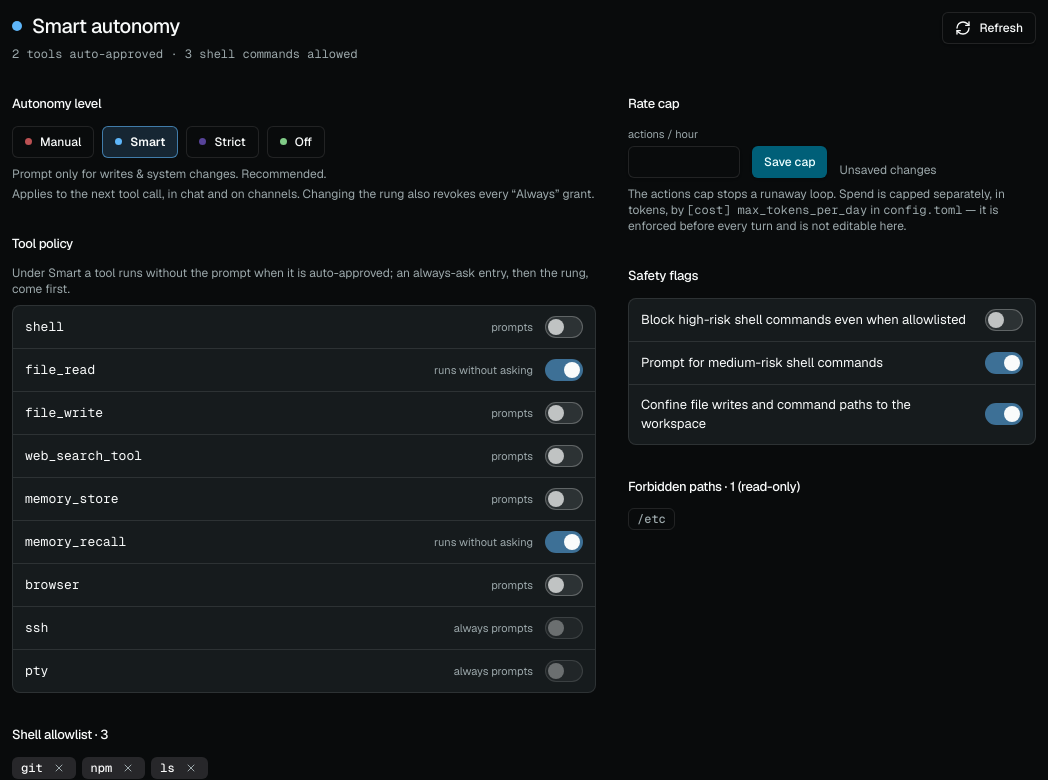
ToolsPanel rung and rows › writes the wildcard for Manual, broadcasts, and disables every switch under it
This screenshot has width=1048, height=780.
Check: the text "Prompt only for writes & system changes. Recommended." is shown, box [12,166,326,182]
Step 1. Click the button "Manual" → [53, 142], box [12,126,94,158]
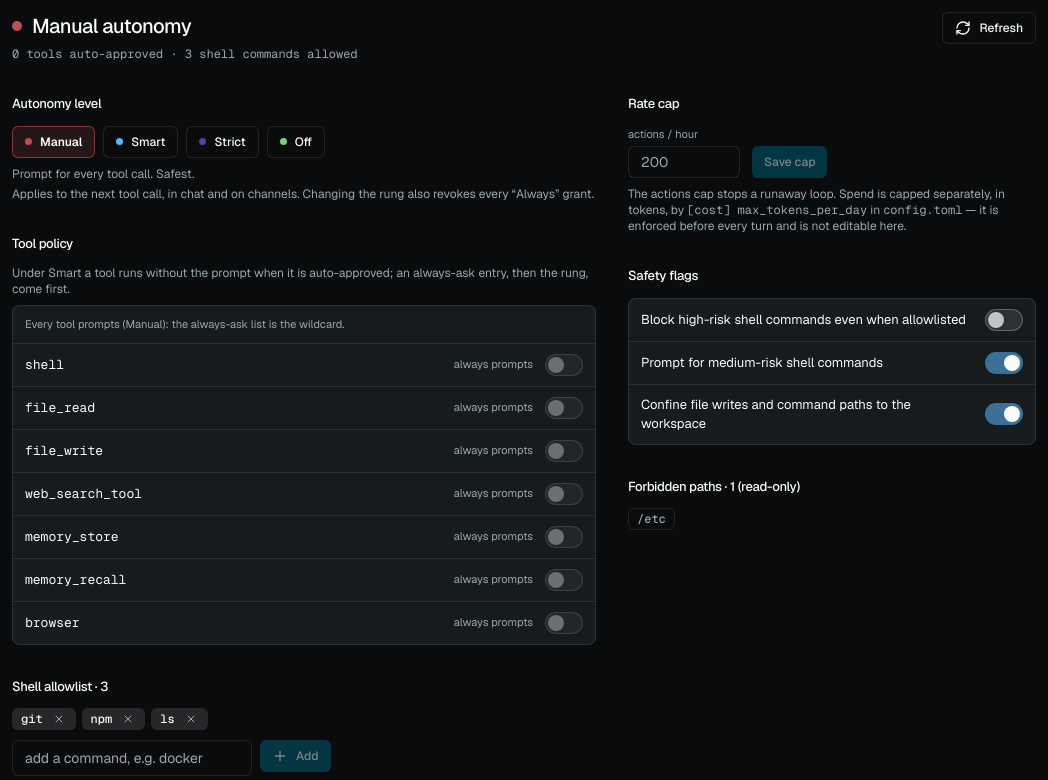
Check: the text "Every tool prompts (Manual)" is shown, box [25,317,344,331]
Check: the switch named "Auto-approve" is disabled, box [545,354,583,376]
